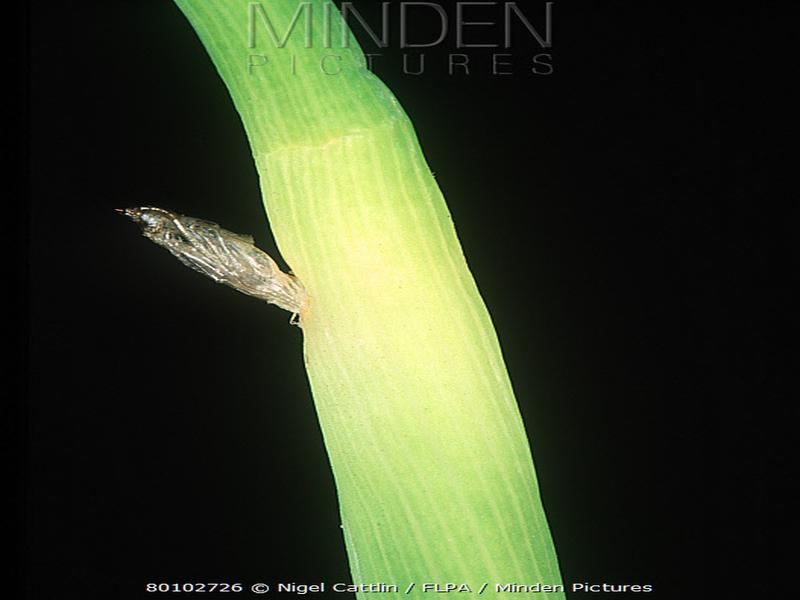Gall_midge: (116, 198, 325, 318)
